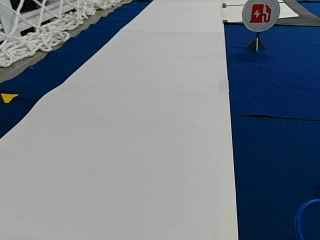battery: (240, 0, 280, 32)
